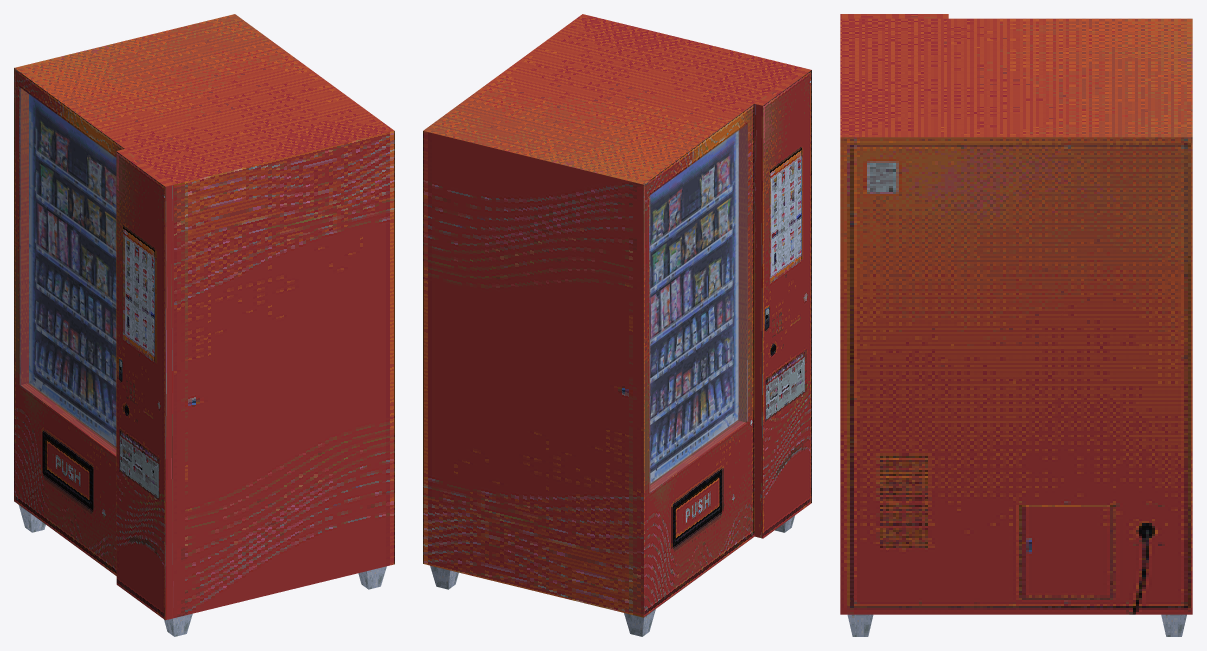
File: psx_-_vending_machine.glb
The picture shows the model from 3 angles, left to right: view 1: azimuth 30°, elevation 25°; view 2: azimuth 150°, elevation 25°; view 3: azimuth 270°, elevation 25°; orthographic projection. The views are drawn at different scales.
Parts seen in each view (by area): view 1: pCube30; view 2: pCube30; view 3: pCube30.
Part boxes in pixels (x1=…): pCube30: x1=14, y1=14, x2=394, y2=636; pCube30: x1=423, y1=14, x2=811, y2=636; pCube30: x1=840, y1=14, x2=1192, y2=636.
Size of the model in its own units: 0.0724 by 0.1379 by 0.0873.
3 materials, 2 textured.
